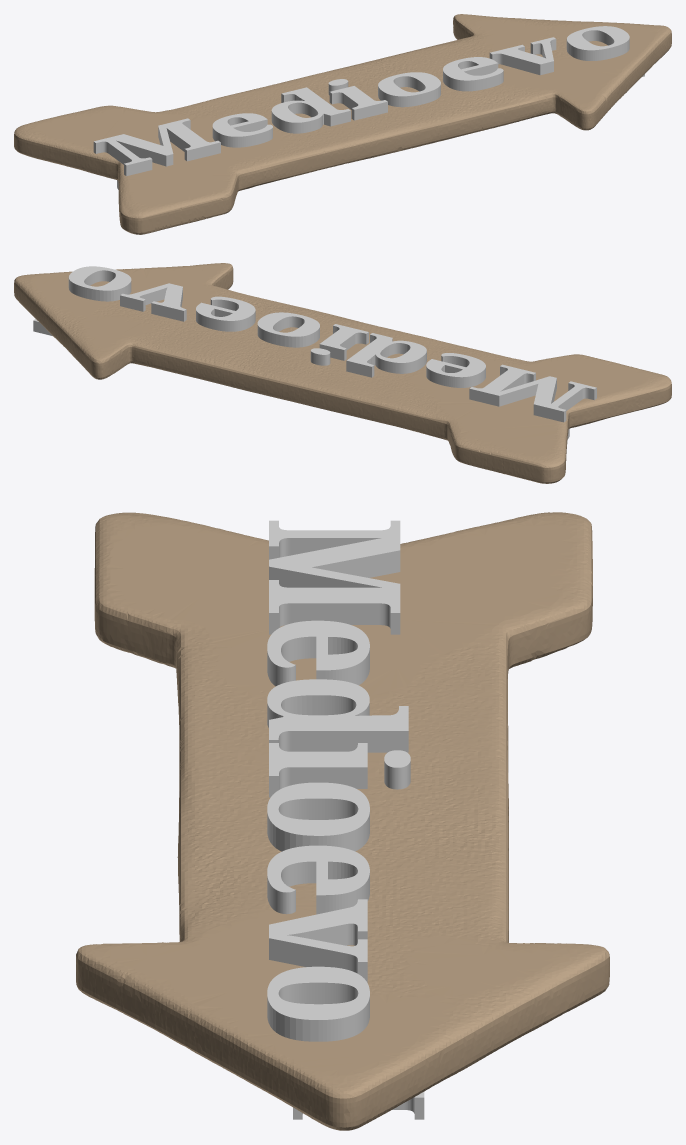
File: Cartello Medioevo.glb
3 views of the same model, one above another, from view 1: azimuth 30°, elevation 25°; view 2: azimuth 150°, elevation 25°; view 3: azimuth 270°, elevation 25° (orthographic). The views are drawn at different scales.
Parts seen in each view (by area): view 1: Mesh_Mesh_head_geo.001_lambert2SG.001; view 2: Mesh_Mesh_head_geo.001_lambert2SG.001; view 3: Mesh_Mesh_head_geo.001_lambert2SG.001.
Boxes of the visible parts, x1=… form: Mesh_Mesh_head_geo.001_lambert2SG.001: x1=14, y1=14, x2=671, y2=234; Mesh_Mesh_head_geo.001_lambert2SG.001: x1=14, y1=263, x2=671, y2=483; Mesh_Mesh_head_geo.001_lambert2SG.001: x1=76, y1=512, x2=609, y2=1130.
Bounding box in the file's own units: 0.058 × 0.004 × 0.0223.
